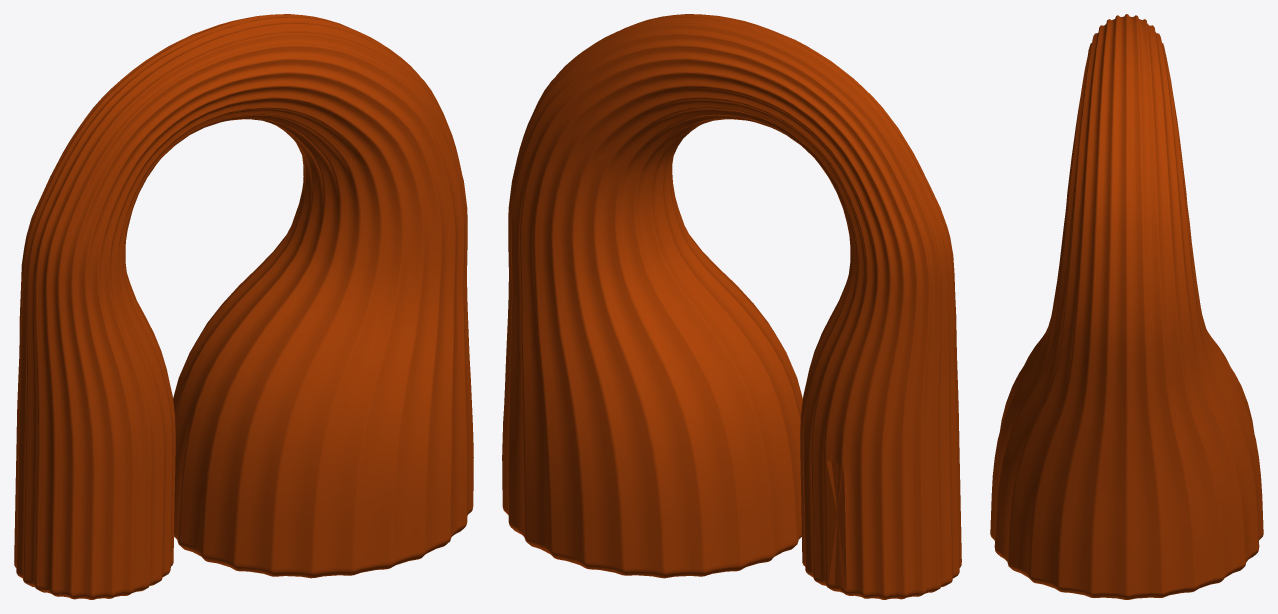
Rendered from konstrunda_dekoracja_00614565.glb.
3 renders of one model, left to right at view 1: azimuth 30°, elevation 25°; view 2: azimuth 150°, elevation 25°; view 3: azimuth 270°, elevation 25°, orthographic. The views are drawn at different scales.
Visible parts, largest first — view 1: konstrunda_dekoracja_00614565; view 2: konstrunda_dekoracja_00614565; view 3: konstrunda_dekoracja_00614565.
Boxes of the visible parts, bbox=[...] form: konstrunda_dekoracja_00614565: bbox=[14, 14, 473, 599]; konstrunda_dekoracja_00614565: bbox=[502, 14, 961, 599]; konstrunda_dekoracja_00614565: bbox=[990, 14, 1263, 599].
Size of the model in its own units: 0.3195 by 0.36 by 0.1896.
Materials: 1 (1 with a texture image).
